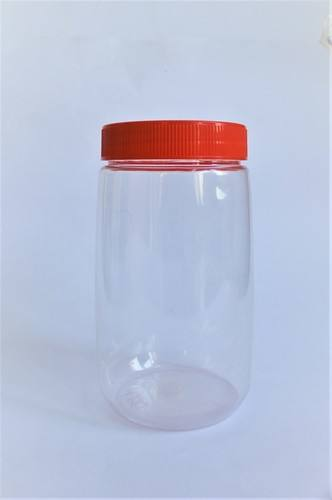Rec_Plastic: (68, 88, 271, 433)
